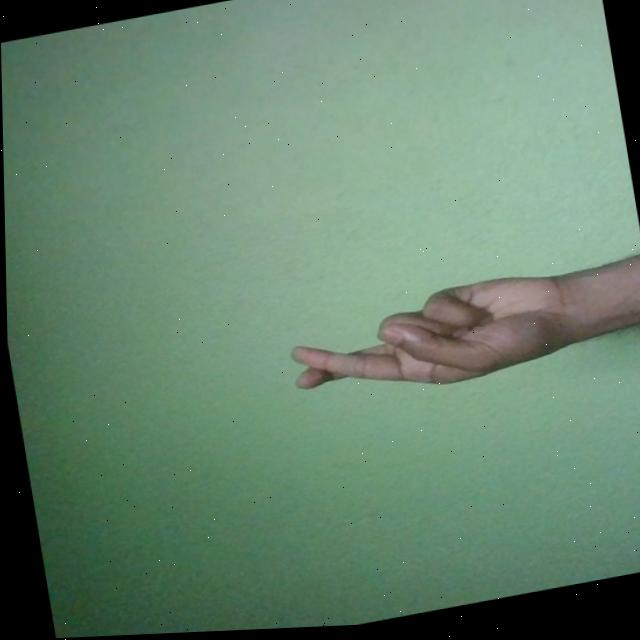Good Luck: (283, 268, 586, 413)
